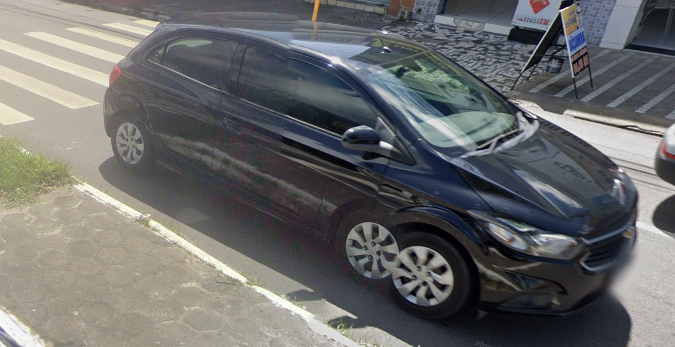car: (100, 7, 638, 321)
